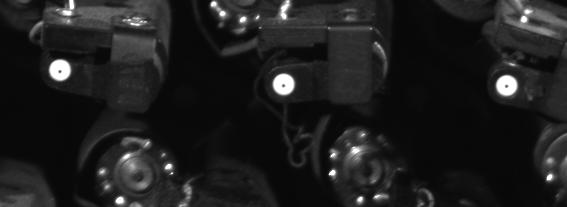fiber: (491, 72, 524, 99), (47, 56, 73, 86), (271, 71, 297, 99)
